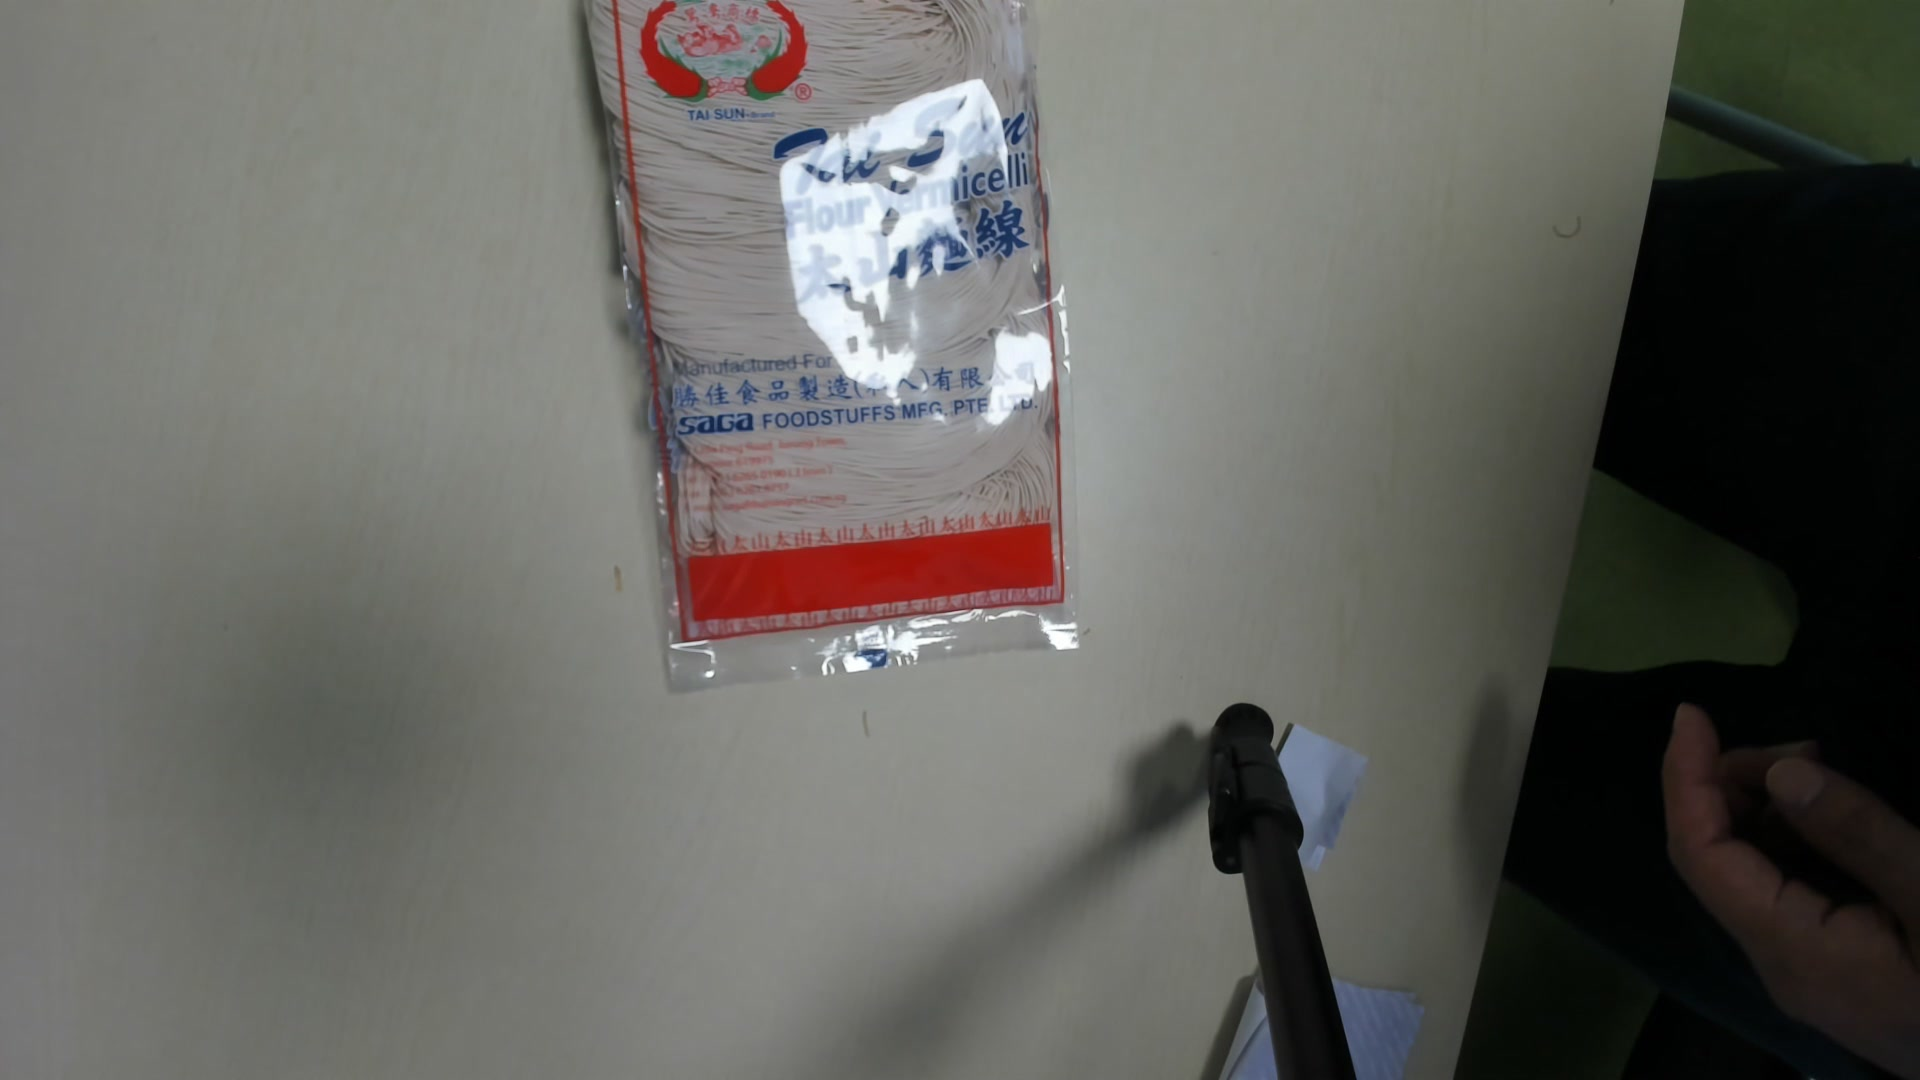BeeHoonVermicelli_300-399g_Halal_NonHealthy: (587, 7, 1096, 712)
